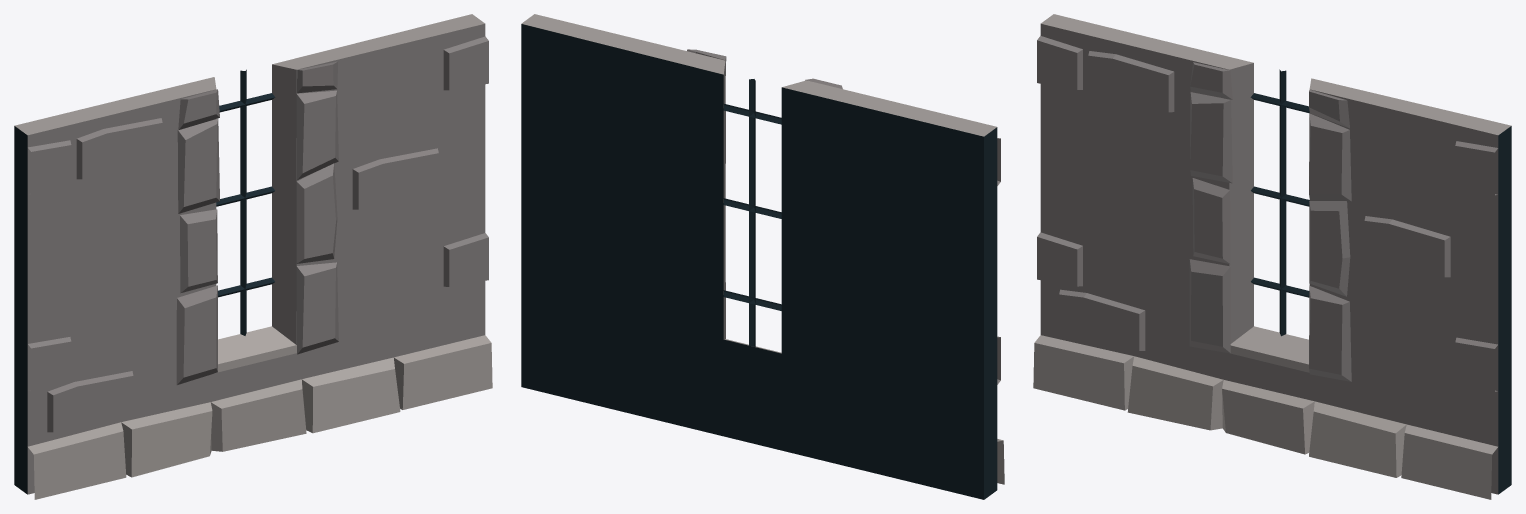
Rendered from dungeon-wall-window-start-stone.glb.
3 views of the same model, side by side, from view 1: azimuth 30°, elevation 25°; view 2: azimuth 150°, elevation 25°; view 3: azimuth 330°, elevation 25° (orthographic).
Parts seen in each view (by area): view 1: dungeon-wall-window-start-stone; view 2: dungeon-wall-window-start-stone; view 3: dungeon-wall-window-start-stone.
Boxes of the visible parts, x1,y1,x2,y2 form: dungeon-wall-window-start-stone: (14,14,492,499); dungeon-wall-window-start-stone: (521,14,1004,499); dungeon-wall-window-start-stone: (1033,14,1511,499).
Size of the model in its own units: 4 by 3.01 by 0.3283.
Materials: 1 (1 with a texture image).
